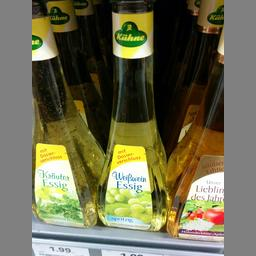vinegar: (96, 1, 171, 230), (32, 4, 104, 228), (167, 20, 224, 234)
